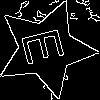E: (21, 24, 75, 67)
